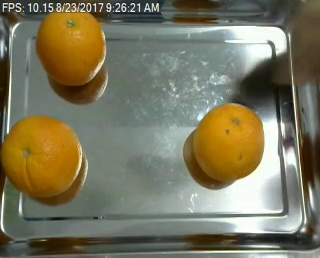Orange: (1, 115, 82, 196), (193, 102, 264, 182), (34, 12, 105, 84)
